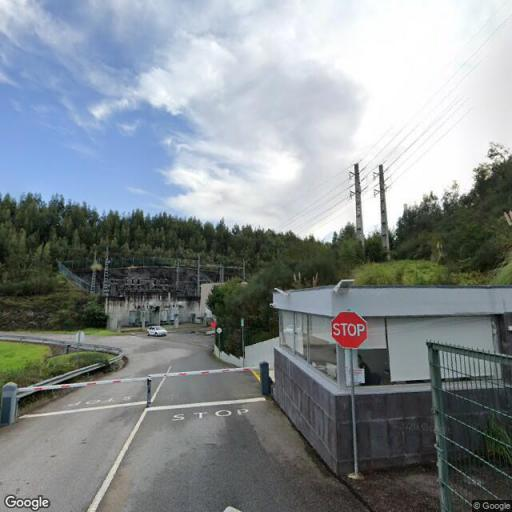mono_10: (372, 161, 395, 261), (346, 160, 370, 254)
